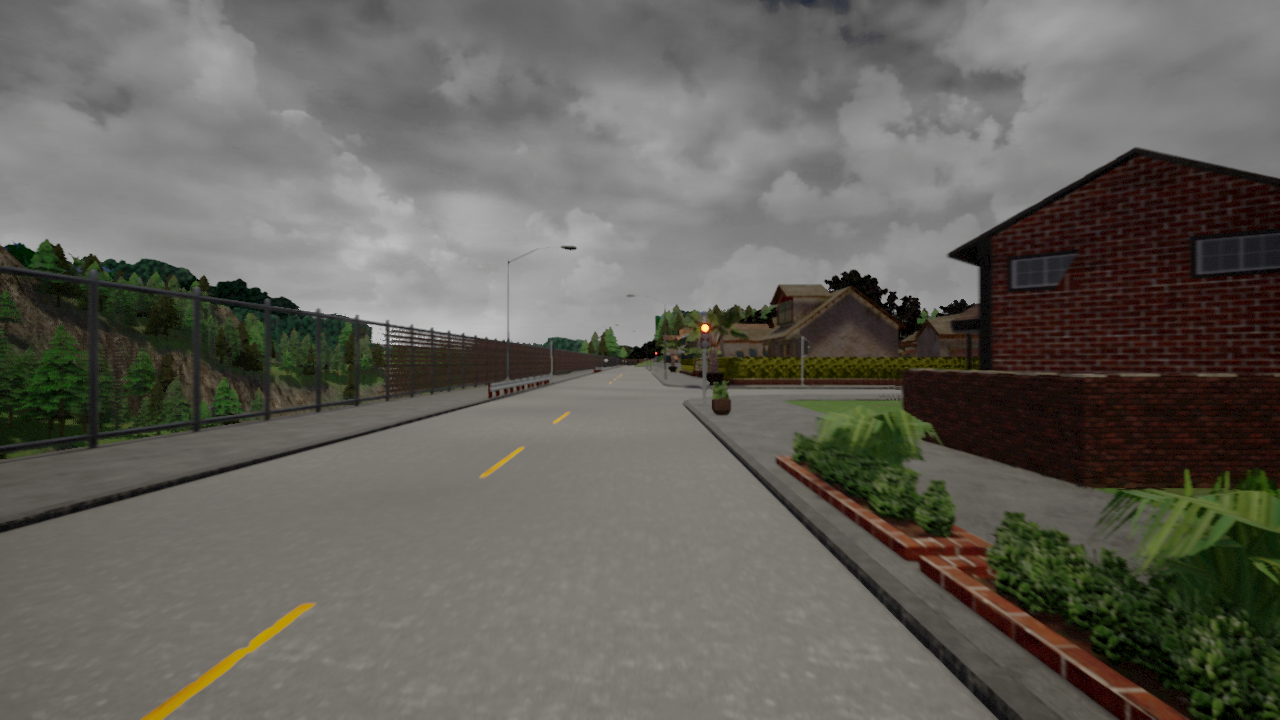red: (699, 323, 710, 350)
